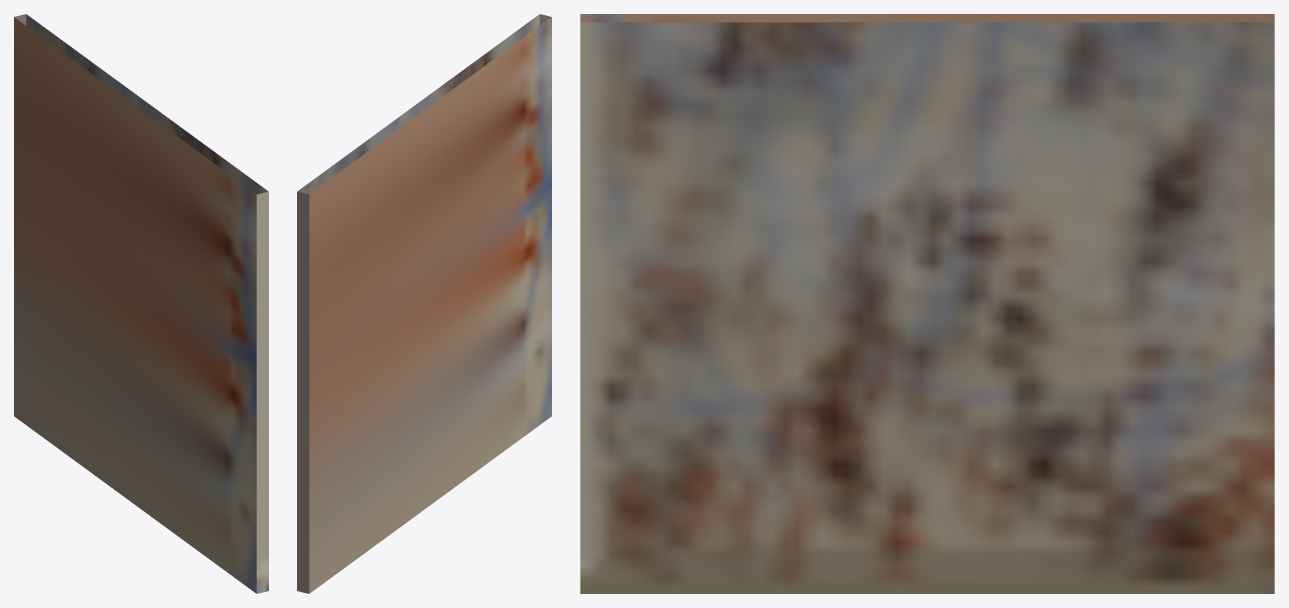
File: section-5.obj
3 renders of one model, left to right at view 1: azimuth 30°, elevation 25°; view 2: azimuth 150°, elevation 25°; view 3: azimuth 270°, elevation 25°, orthographic. The views are drawn at different scales.
Bounding box in the file's own units: 0.025 × 0.79 × 0.87.
Materials: 1 (1 with a texture image).
